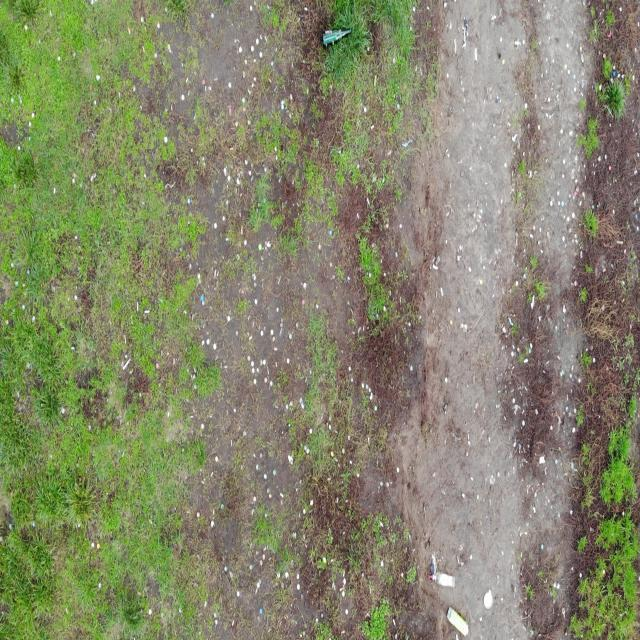rubbish: (321, 25, 352, 49), (446, 607, 471, 636), (429, 571, 456, 591), (484, 591, 492, 607)
